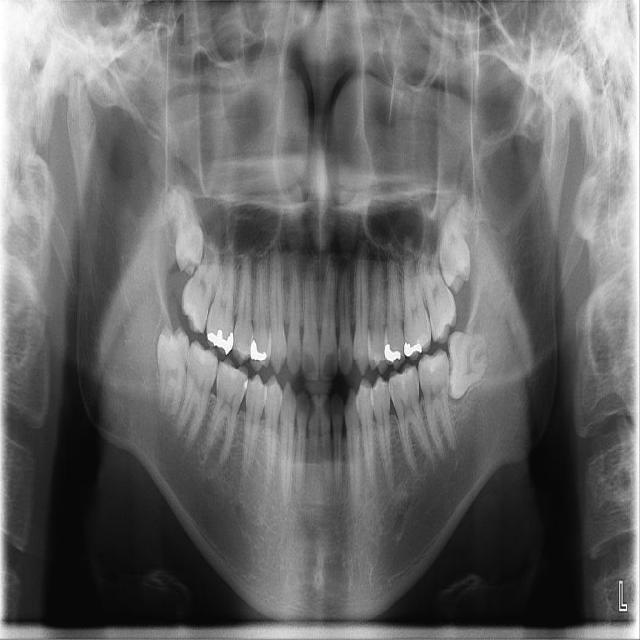Filling: (202, 328, 234, 354), (383, 341, 405, 365), (247, 339, 268, 364), (403, 342, 422, 360), (238, 378, 249, 391)
impacted tooth: (164, 189, 201, 271), (439, 196, 470, 288), (158, 330, 190, 418), (448, 330, 488, 397)
